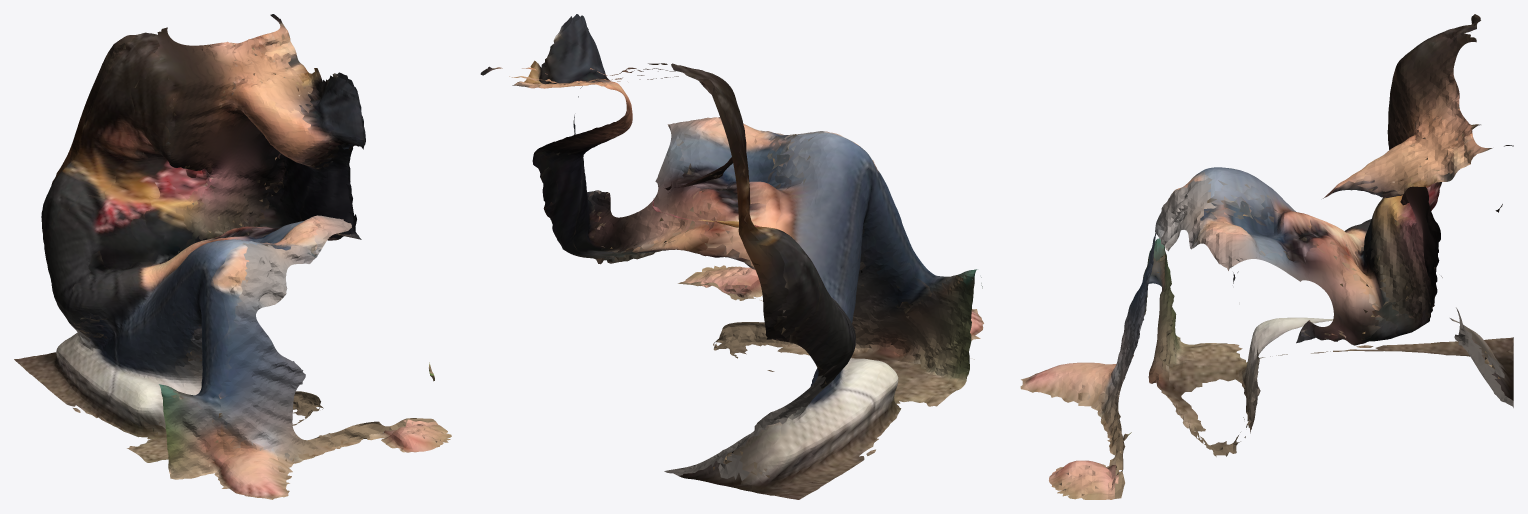
3 views of the same model, side by side, from view 1: azimuth 30°, elevation 25°; view 2: azimuth 150°, elevation 25°; view 3: azimuth 270°, elevation 25° (orthographic). The views are drawn at different scales.
Bounding box in the file's own units: 0.6214 × 0.7246 × 0.8387.
1 material, 1 textured.
